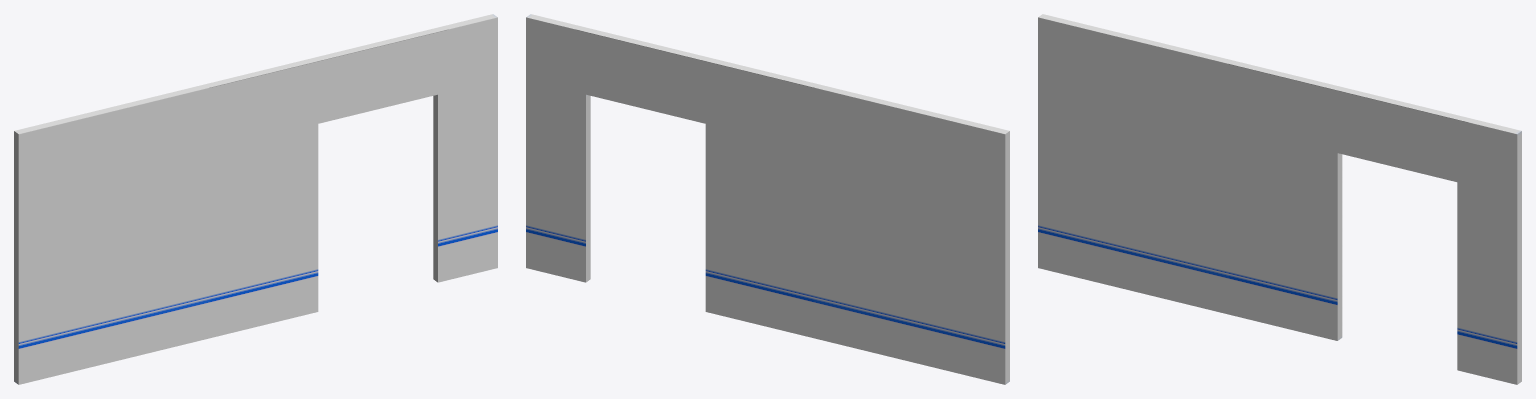
File: CellRoom_Wall_01.fbx
3 views of the same model, side by side, from view 1: azimuth 30°, elevation 25°; view 2: azimuth 150°, elevation 25°; view 3: azimuth 330°, elevation 25° (orthographic).
Visible parts, largest first — view 1: CellRoom_Wall_01; view 2: CellRoom_Wall_01; view 3: CellRoom_Wall_01.
Part boxes in pixels (x1,y1,x2,y2): CellRoom_Wall_01: (14,14,497,384); CellRoom_Wall_01: (526,14,1009,384); CellRoom_Wall_01: (1038,14,1521,384).
Bounding box in the file's own units: 6 × 3 × 0.1.
